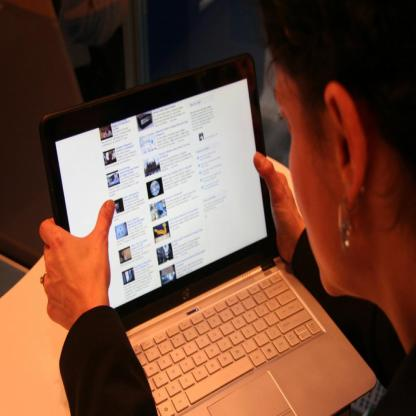board: (56, 54, 374, 416)
